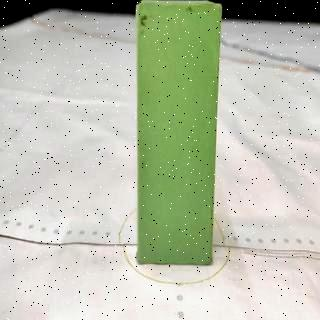greenbox: (134, 0, 215, 266)
